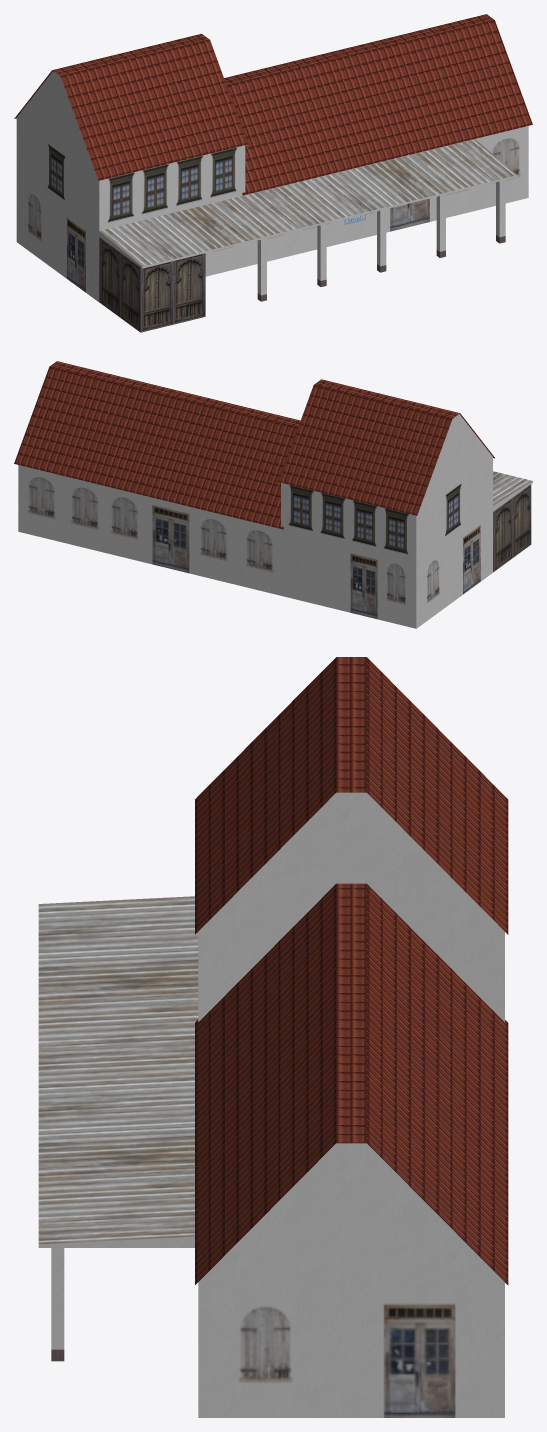
Rendered from TrainStation_small.dae.
3 renders of one model, top to bottom at view 1: azimuth 30°, elevation 25°; view 2: azimuth 150°, elevation 25°; view 3: azimuth 270°, elevation 25°, orthographic. The views are drawn at different scales.
Parts seen in each view (by area): view 1: RailStation_small; view 2: RailStation_small; view 3: RailStation_small.
Part boxes in pixels (x1,y1,x2,y2): RailStation_small: (14, 14, 532, 332); RailStation_small: (14, 361, 532, 628); RailStation_small: (38, 657, 508, 1417).
Size of the model in its own units: 146 by 73.55 by 64.
